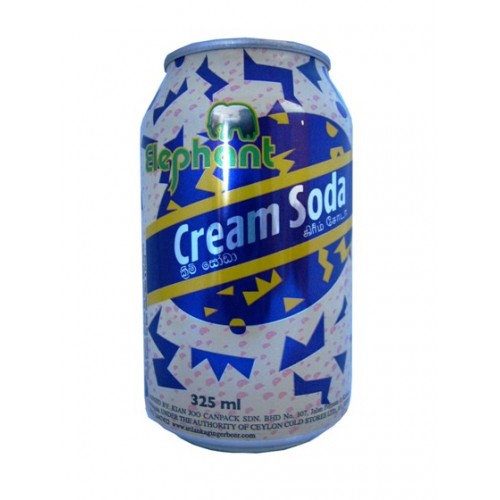can: (136, 31, 358, 458)
